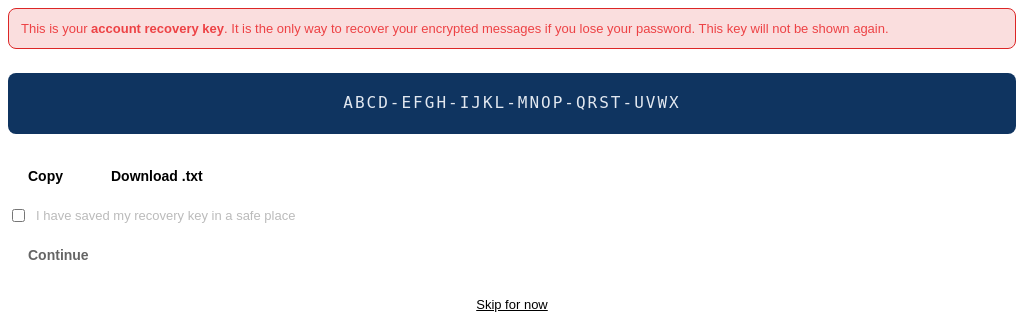
RecoveryKeyDisplay › disables Continue if checkbox is unchecked again
Click the checkbox at point(18, 215), box x1=12 y1=209 x2=25 y2=222
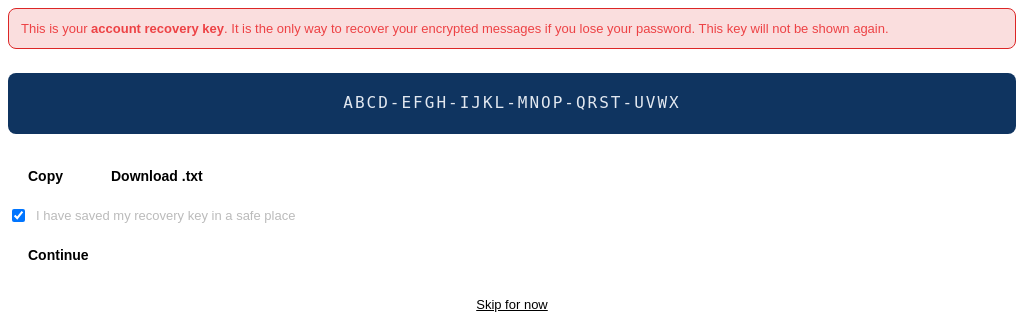
Expected: the button "Continue" is enabled, x1=8 y1=237 x2=1016 y2=273
Click the checkbox at point(18, 215), box x1=12 y1=209 x2=25 y2=222
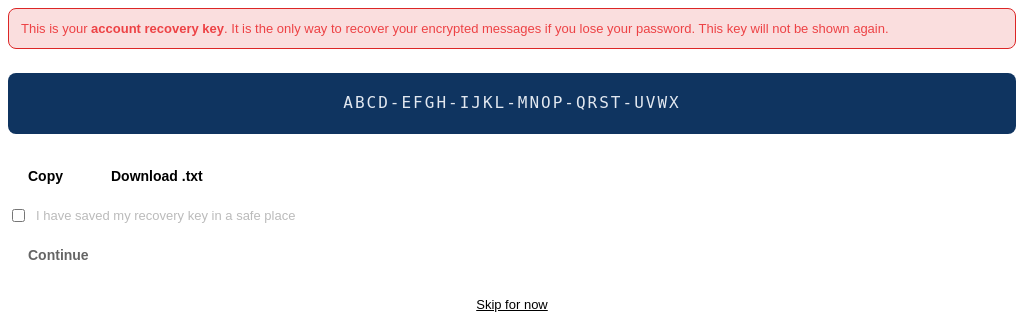
Expected: the button "Continue" is disabled, x1=8 y1=237 x2=1016 y2=273
